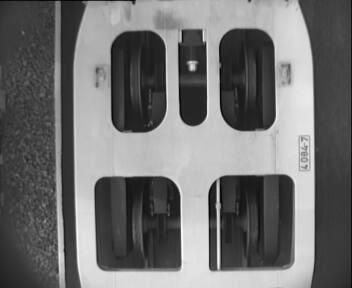twist_lock_2: (97, 23, 288, 141)
